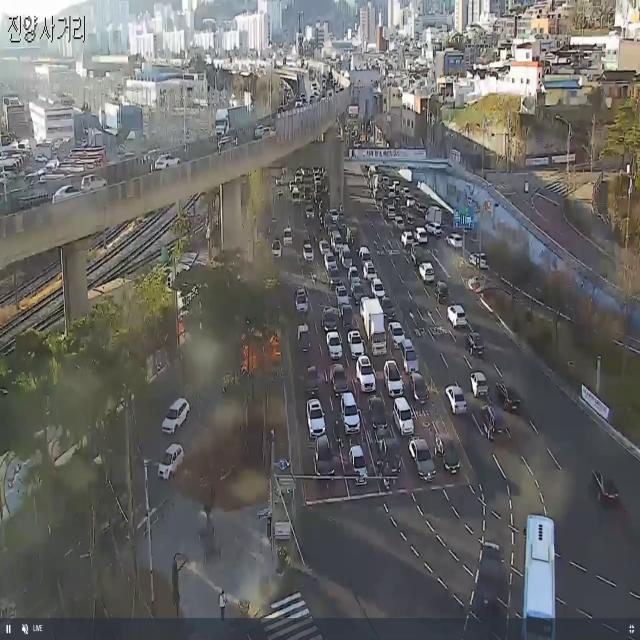car: (522, 514, 555, 640)
motorcycle: (408, 433, 438, 484), (592, 466, 621, 512), (434, 431, 461, 476), (478, 405, 506, 442), (161, 398, 189, 434), (494, 379, 521, 415), (158, 445, 186, 479), (313, 436, 335, 478), (393, 397, 414, 435), (349, 446, 369, 484), (368, 395, 390, 429), (445, 384, 467, 418), (342, 395, 361, 434), (383, 361, 404, 396), (52, 182, 80, 208), (307, 399, 326, 436), (356, 357, 376, 391), (400, 340, 420, 374), (408, 373, 429, 405), (465, 328, 485, 361), (470, 370, 488, 401), (448, 302, 468, 329), (330, 366, 349, 394), (304, 366, 320, 397), (380, 297, 398, 322), (326, 332, 342, 360), (154, 155, 181, 171), (322, 306, 338, 332), (348, 331, 364, 357), (298, 324, 310, 356), (418, 261, 434, 285), (389, 322, 404, 347), (295, 288, 308, 316), (218, 135, 238, 153), (81, 174, 108, 187), (352, 282, 365, 308), (471, 251, 487, 271), (437, 280, 449, 306), (371, 278, 387, 296), (447, 232, 462, 251), (339, 245, 353, 265), (415, 224, 428, 244), (362, 262, 378, 278), (336, 286, 350, 304), (302, 243, 314, 263), (328, 268, 342, 285), (272, 239, 282, 262), (358, 246, 372, 262), (331, 232, 342, 252), (401, 230, 413, 248), (348, 266, 360, 283), (324, 253, 338, 266), (392, 216, 406, 229), (428, 222, 440, 237), (318, 239, 330, 253), (284, 227, 292, 247), (305, 205, 314, 220)
truck: (374, 427, 402, 480), (363, 299, 388, 357), (338, 304, 352, 328), (424, 206, 442, 223)
